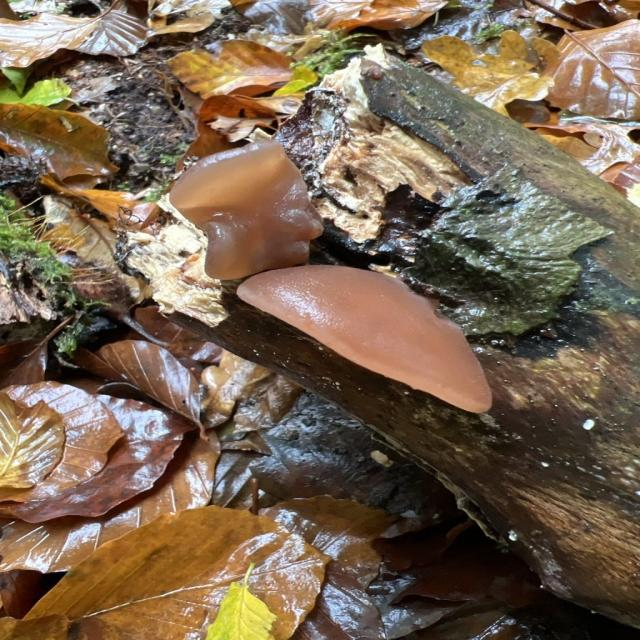Fase Muda: (236, 261, 506, 430), (162, 131, 342, 293)
